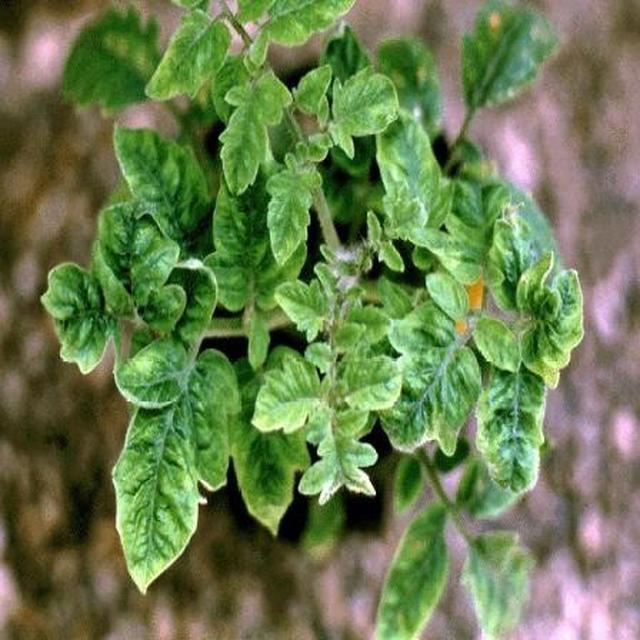Yellow Leaf Curl Virus: (67, 76, 640, 640)
